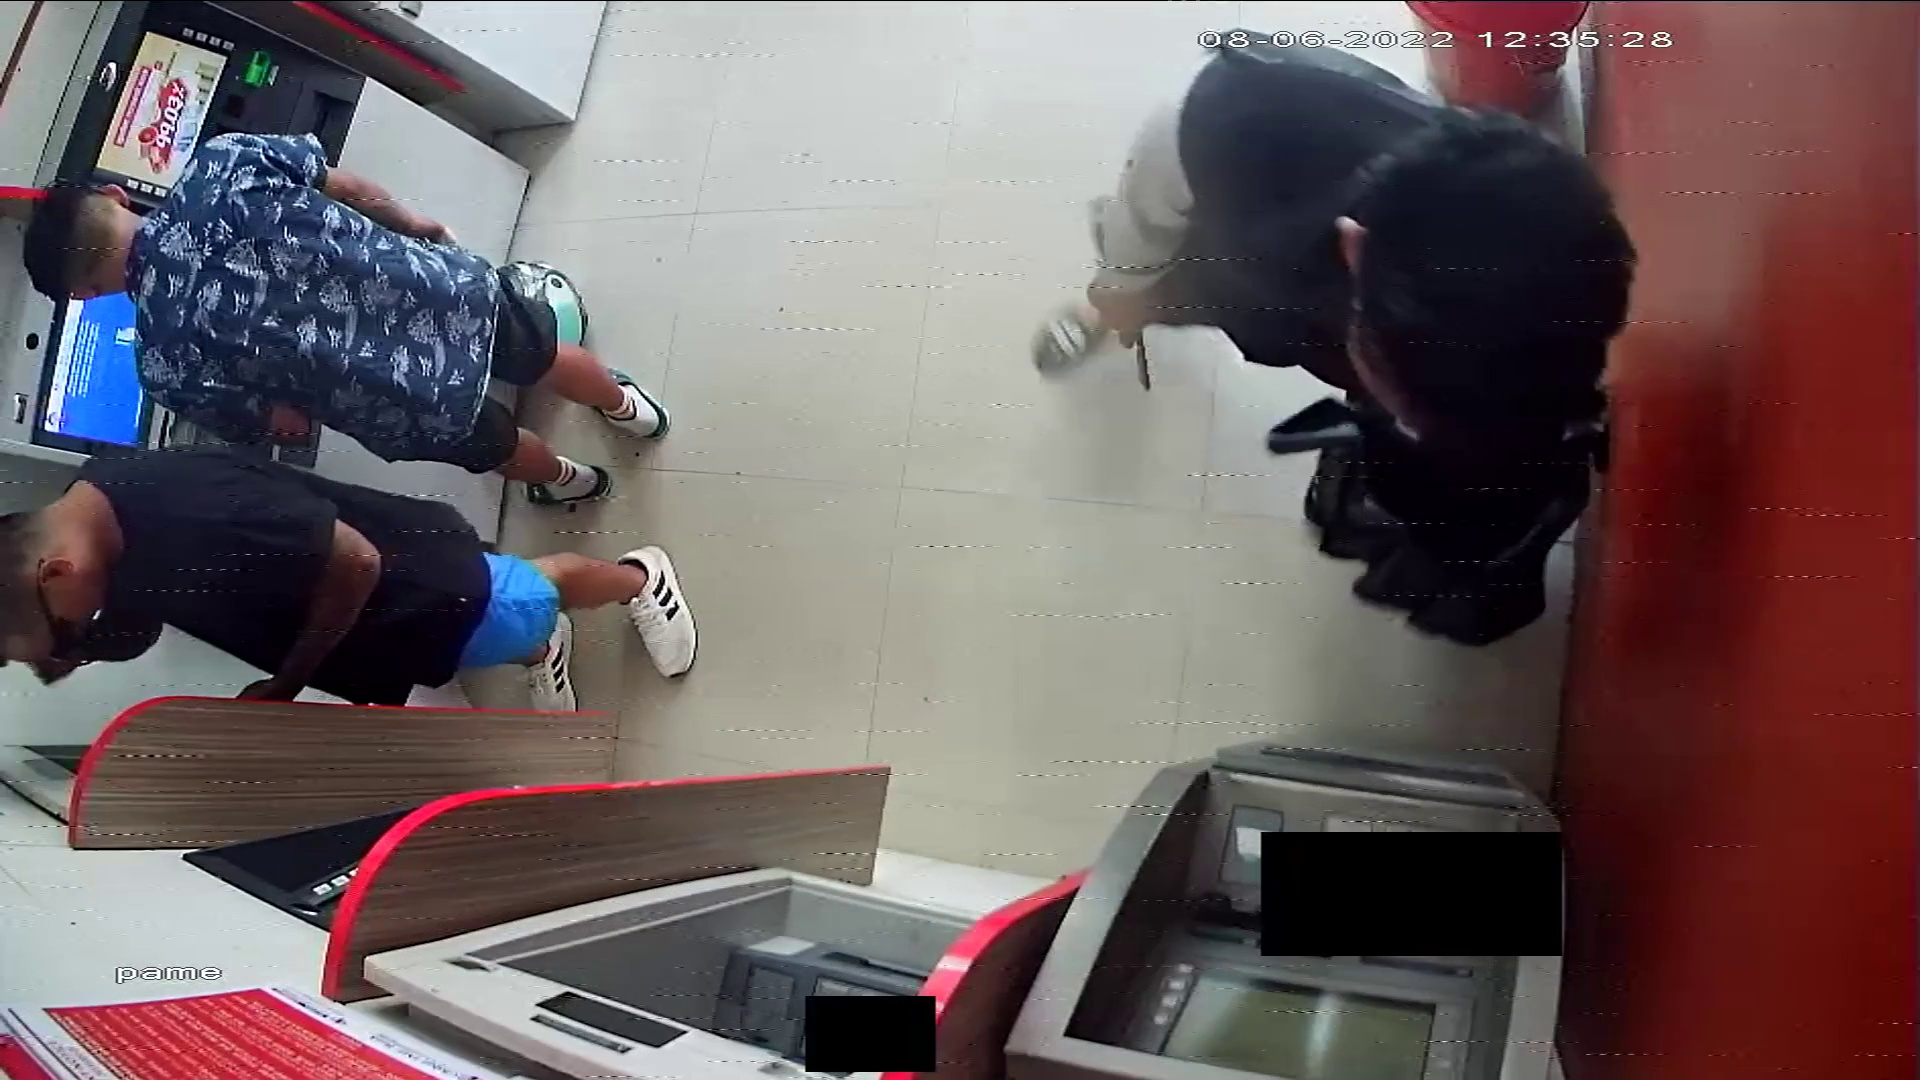helmet: (495, 259, 591, 350)
person: (1029, 30, 1639, 450), (21, 134, 673, 504), (1, 446, 693, 714)
